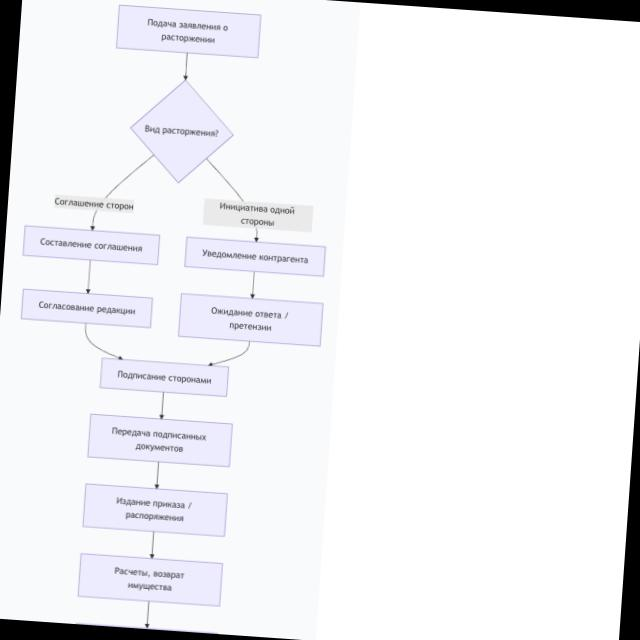arrow: (89, 150, 154, 234), (200, 158, 265, 242), (81, 324, 126, 360), (206, 337, 250, 368), (84, 259, 93, 293), (148, 531, 158, 559), (153, 462, 163, 489), (182, 53, 191, 81), (249, 271, 258, 298), (158, 392, 166, 419), (144, 601, 152, 628)
diamond: (130, 79, 234, 183)
rectangle: (87, 413, 232, 468), (77, 553, 223, 607), (82, 483, 227, 537), (179, 293, 323, 347), (116, 6, 261, 57), (184, 234, 325, 280), (23, 225, 159, 266), (21, 288, 153, 329), (100, 358, 229, 396)
text_region: (218, 201, 296, 229), (53, 196, 133, 212)
